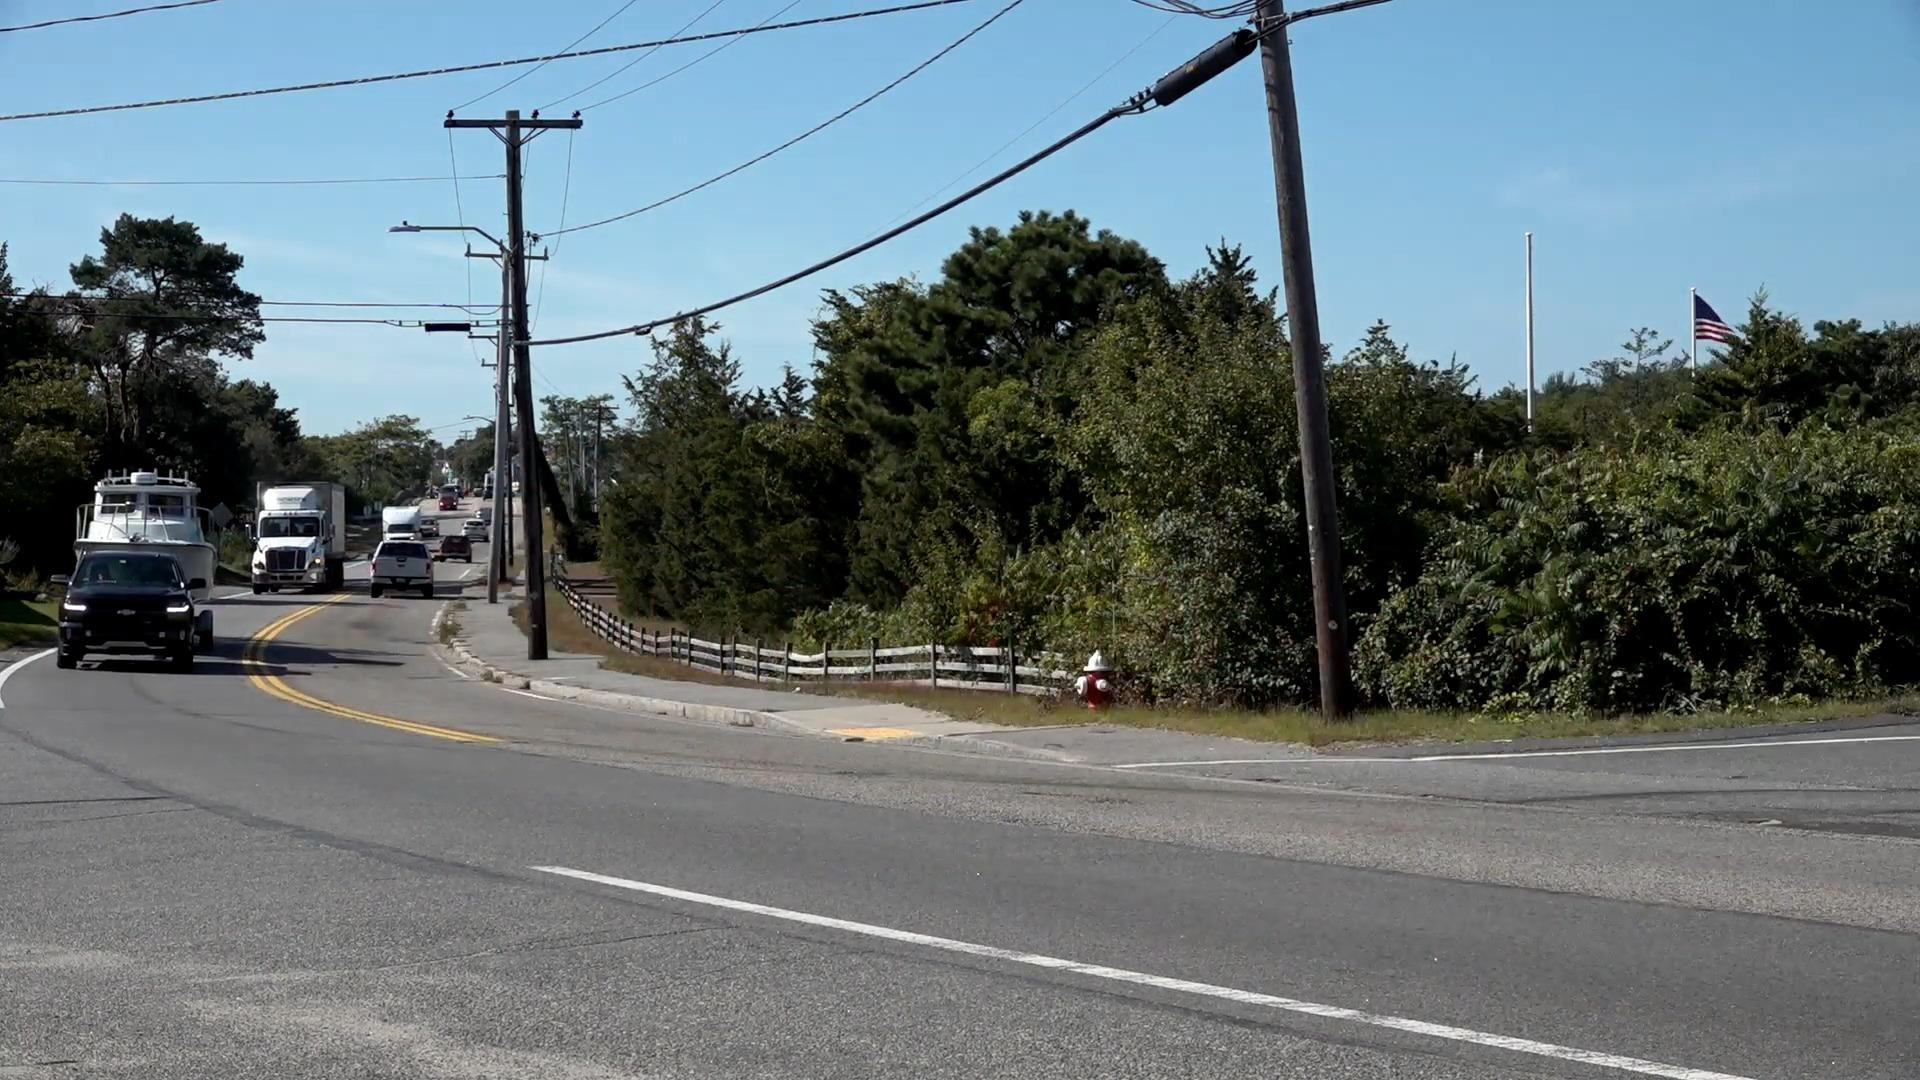pickup: (62, 551, 198, 670), (371, 541, 436, 597)
truck: (244, 482, 347, 593)
